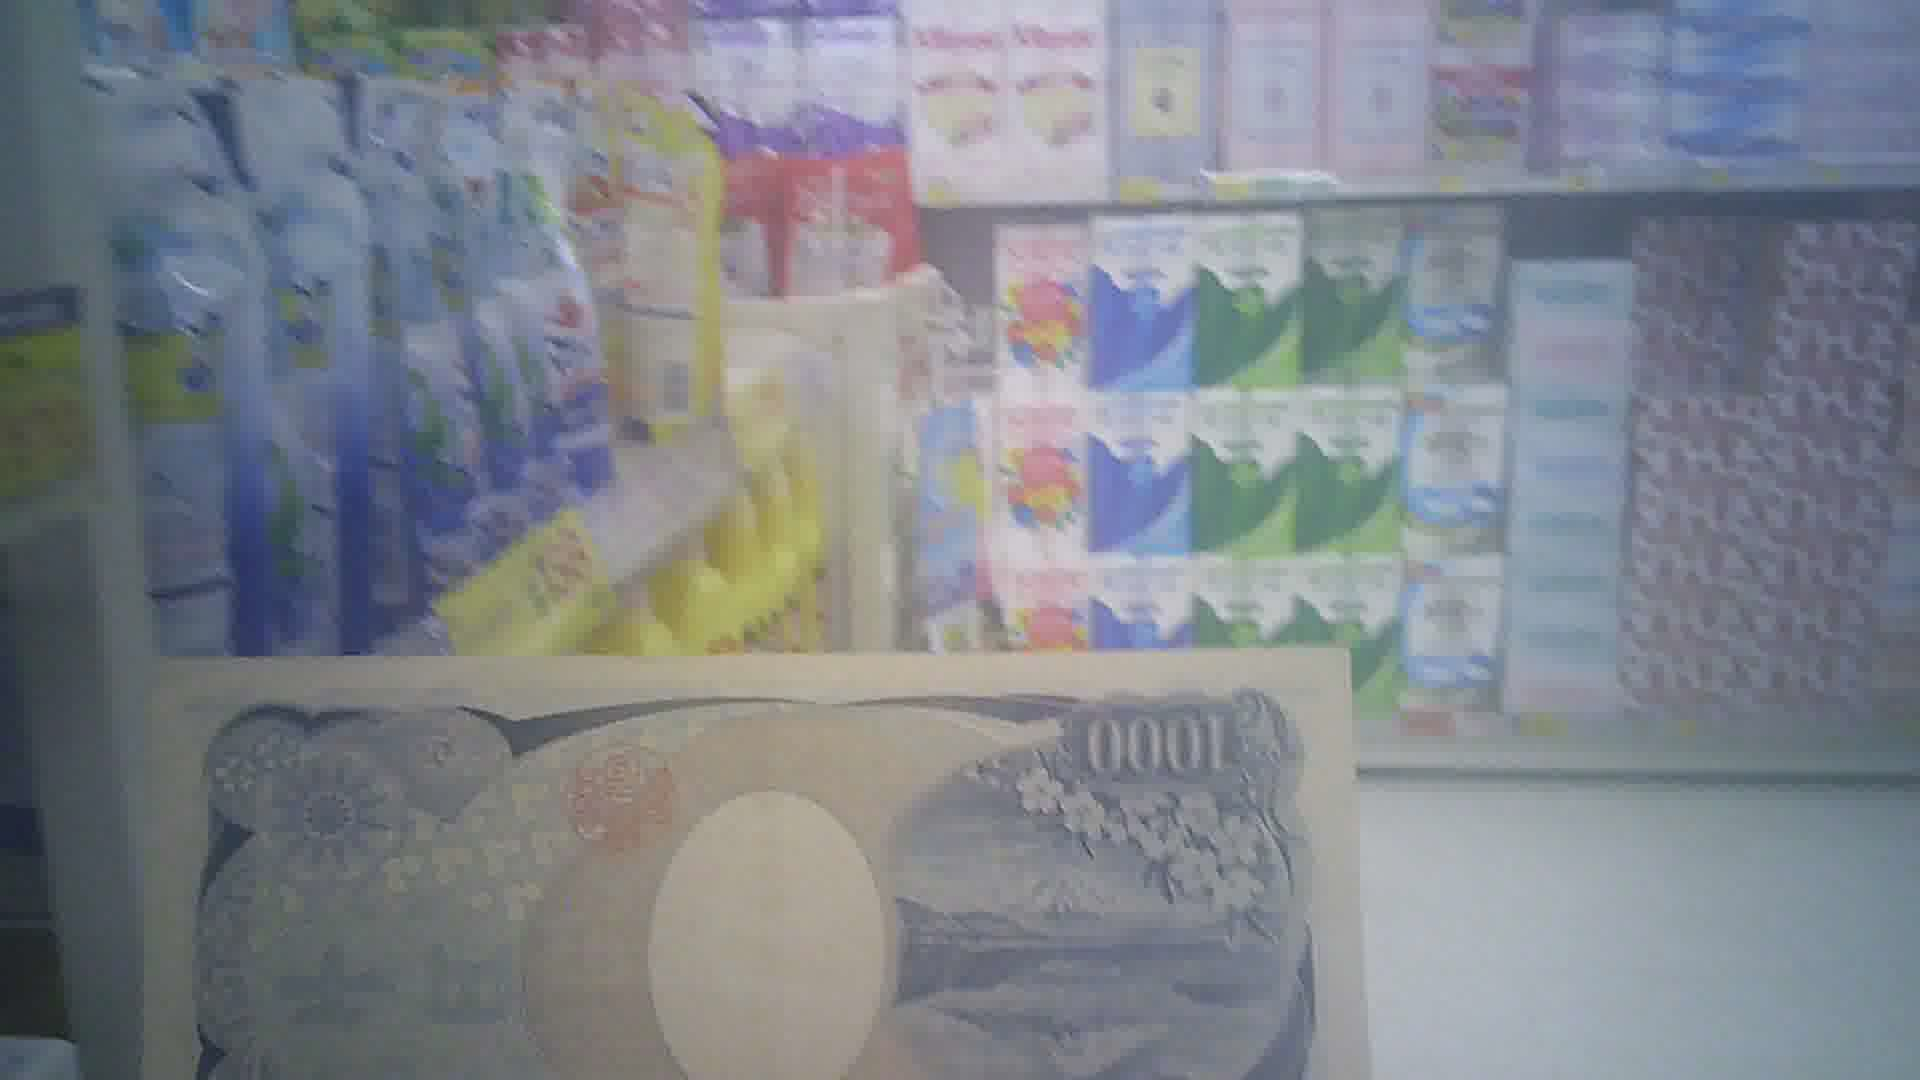1,000 Yen: (127, 621, 1371, 1079)
